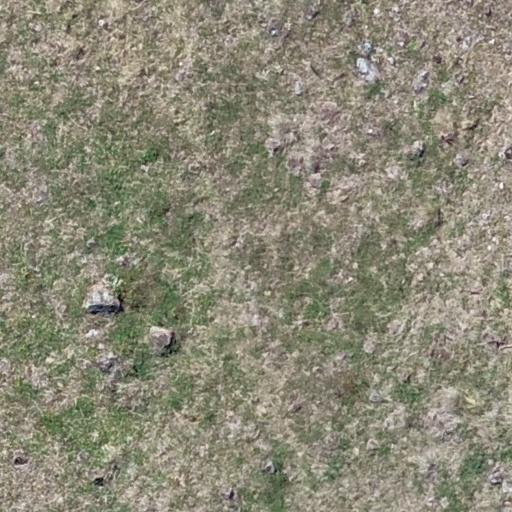stone: (79, 268, 125, 318), (140, 322, 177, 363), (400, 134, 430, 163), (349, 50, 376, 82), (412, 68, 431, 94), (428, 344, 452, 362), (264, 137, 285, 157), (82, 324, 102, 344), (488, 468, 506, 486), (33, 188, 51, 206), (454, 152, 472, 168), (368, 389, 387, 403), (462, 118, 480, 132), (261, 460, 277, 475), (72, 46, 87, 62), (220, 486, 236, 500), (226, 234, 240, 249), (287, 401, 303, 414), (332, 71, 348, 84), (108, 464, 120, 481), (306, 8, 320, 22), (182, 412, 199, 422), (310, 160, 322, 174), (78, 450, 92, 462), (496, 341, 512, 351), (294, 81, 304, 96), (160, 206, 172, 218), (97, 18, 109, 30), (455, 74, 466, 86), (324, 142, 336, 153), (402, 373, 412, 385), (432, 54, 442, 65), (484, 6, 493, 18), (140, 164, 150, 174), (386, 56, 396, 66), (373, 7, 381, 16), (488, 38, 496, 46), (270, 29, 278, 37), (499, 181, 505, 190), (94, 65, 101, 72)
